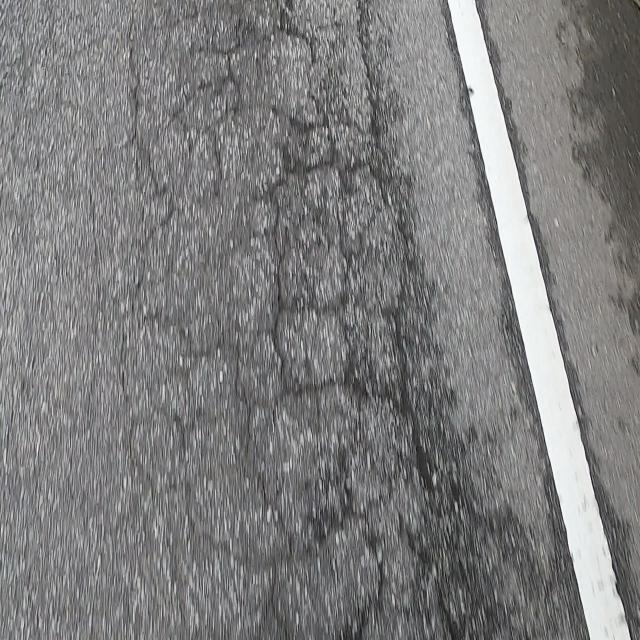Retak-Buaya: (107, 0, 466, 638)
